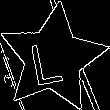L_N: (33, 30, 72, 86)
